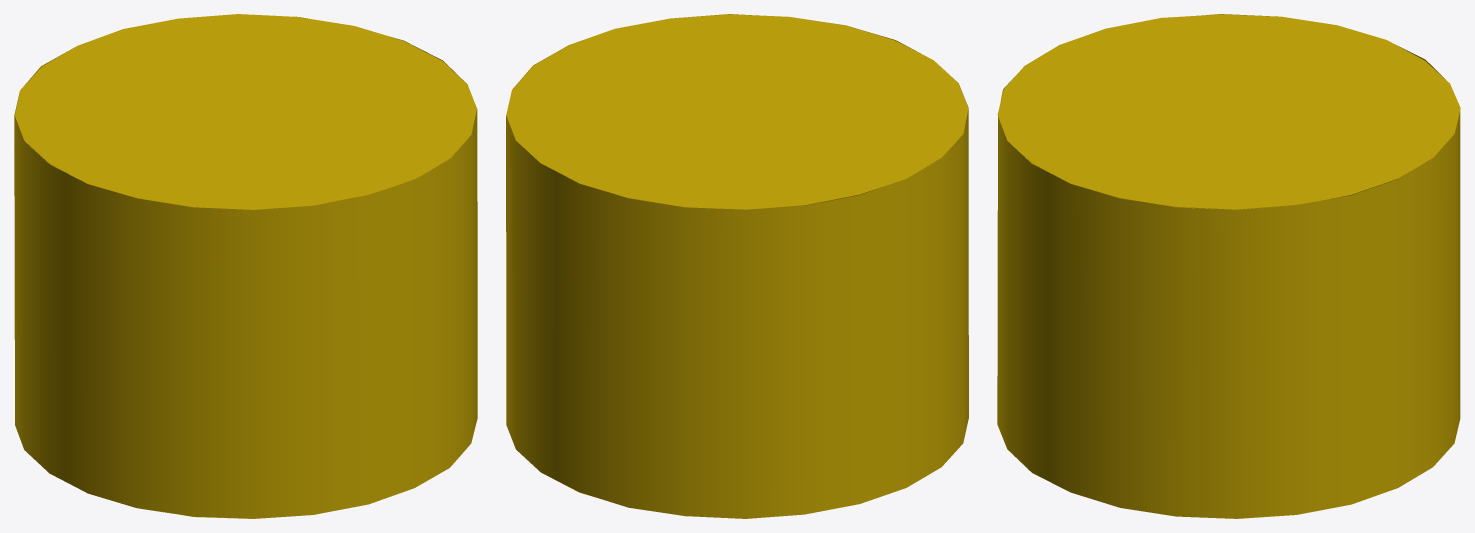
The model's file is original_14.obj.
3 views of the same model, side by side, from view 1: azimuth 30°, elevation 25°; view 2: azimuth 150°, elevation 25°; view 3: azimuth 270°, elevation 25° (orthographic).
Parts seen in each view (by area): view 1: group_13/ID97#ID97; view 2: group_13/ID97#ID97; view 3: group_13/ID97#ID97.
Boxes of the visible parts, x1=… form: group_13/ID97#ID97: x1=14, y1=14, x2=477, y2=518; group_13/ID97#ID97: x1=506, y1=14, x2=968, y2=518; group_13/ID97#ID97: x1=997, y1=14, x2=1460, y2=518.
Size of the model in its own units: 0.1342 by 0.0991 by 0.1342.
